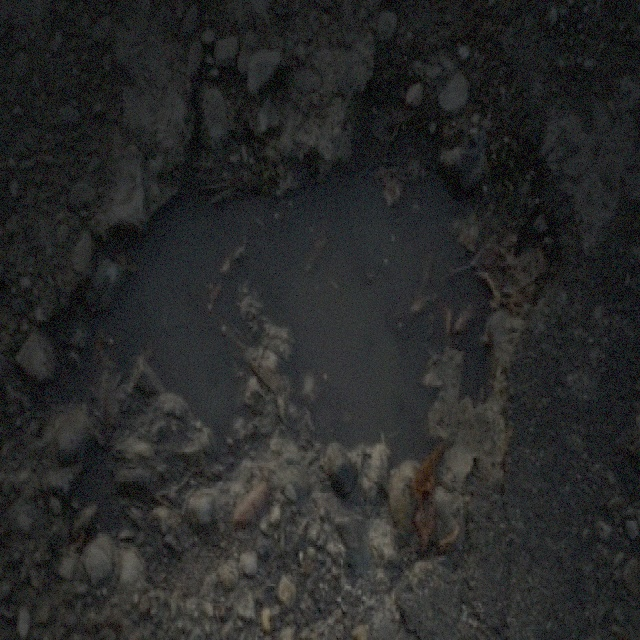pothole: (29, 71, 562, 545)
